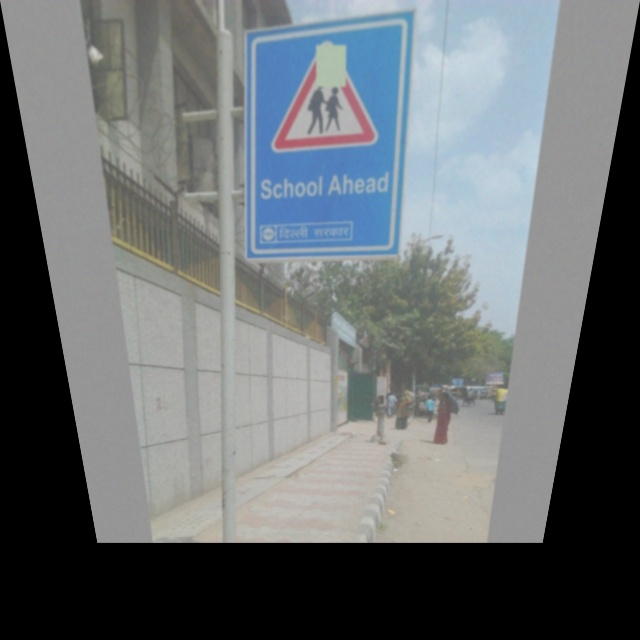School_Ahead: (263, 41, 394, 156)
